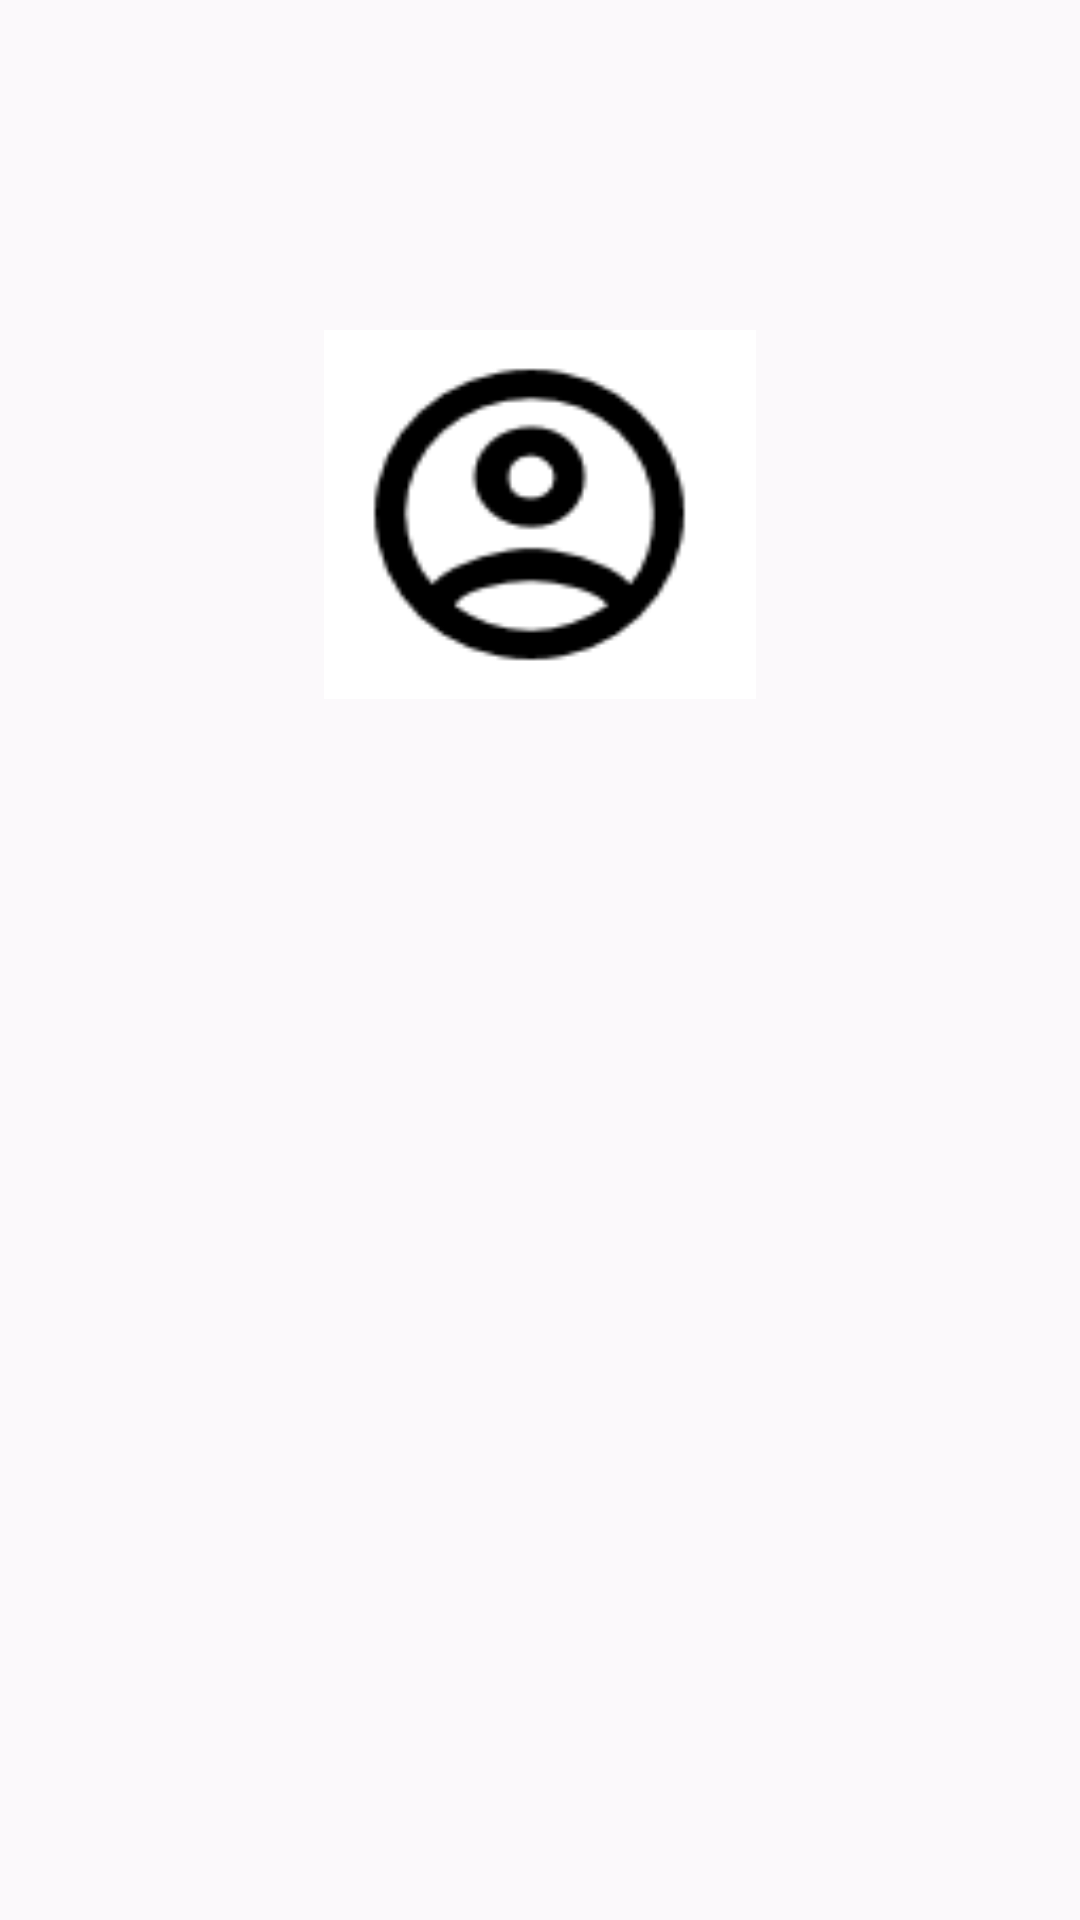

Where icons sit on this 1080*1920 app screen, as (x1, y1, x2, y2):
Imagem Users: (373, 368, 686, 661)
